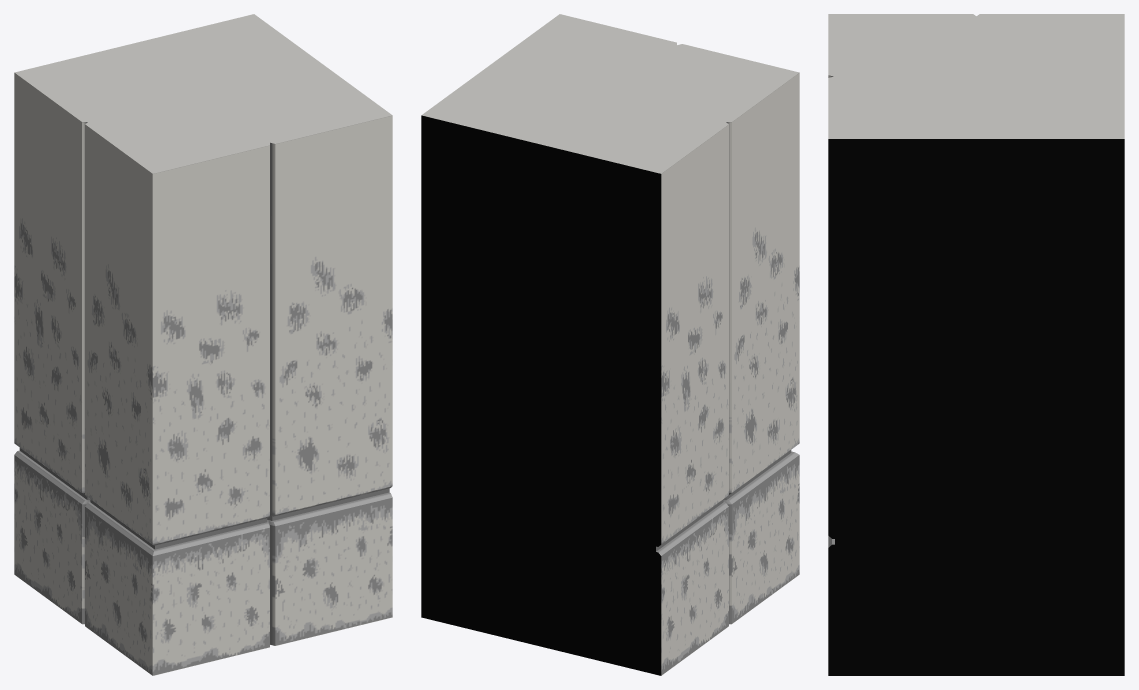
Rendered from corner.fbx.
3 renders of one model, left to right at view 1: azimuth 30°, elevation 25°; view 2: azimuth 150°, elevation 25°; view 3: azimuth 270°, elevation 25°, orthographic. The views are drawn at different scales.
Visible parts, largest first — view 1: corner.001; view 2: corner.001; view 3: corner.001.
Boxes of the visible parts, x1,y1,x2,y2 form: corner.001: (14, 14, 392, 675); corner.001: (421, 14, 799, 675); corner.001: (828, 14, 1124, 675).
Size of the model in its own units: 1100 by 2200 by 1100.
